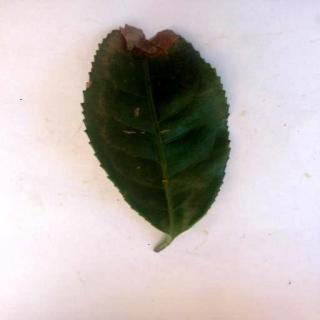Brown Blight: (85, 26, 233, 254)
